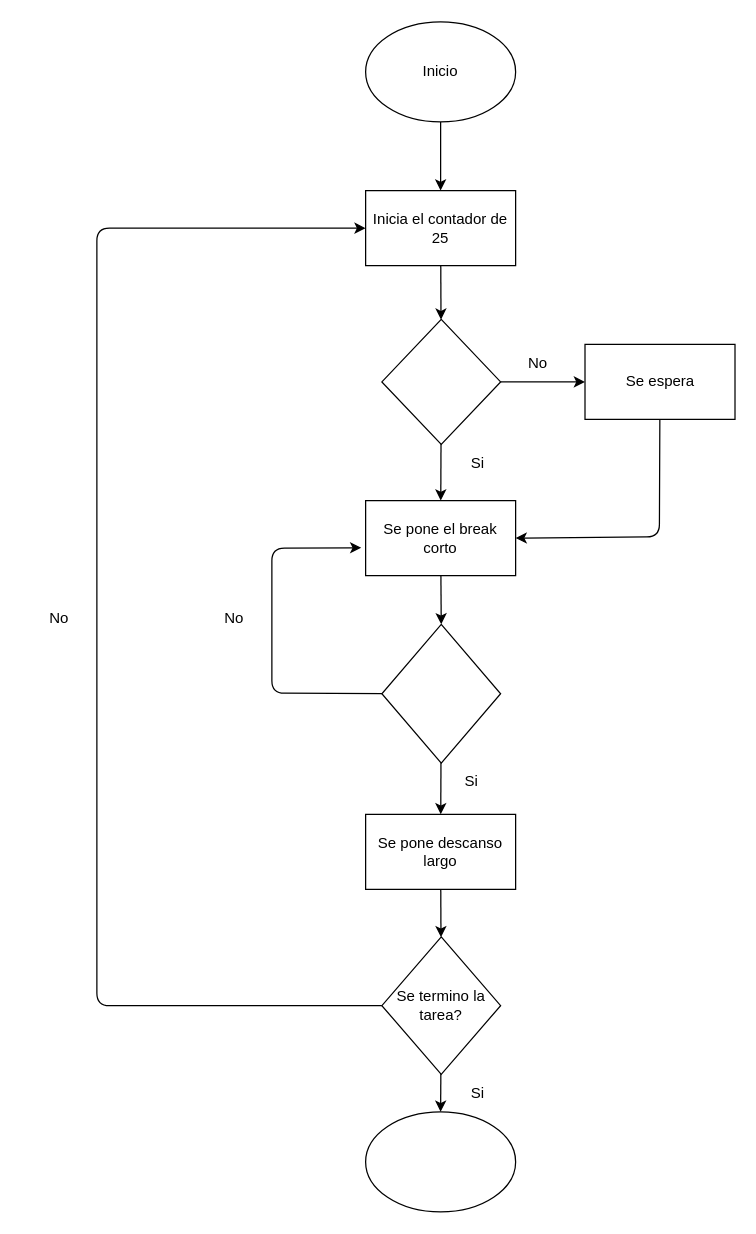
The diagram is 756 pixels wide and 1234 high, and some of its shapes have lost their labels. The shapes that lost their labels are listed below. From the top down, each one's centre as x and y in pixels, then its label:
(x=441, y=381): Termino el contador?
(x=441, y=693): Se quiere un descanso largo?
(x=440, y=1161): Final
